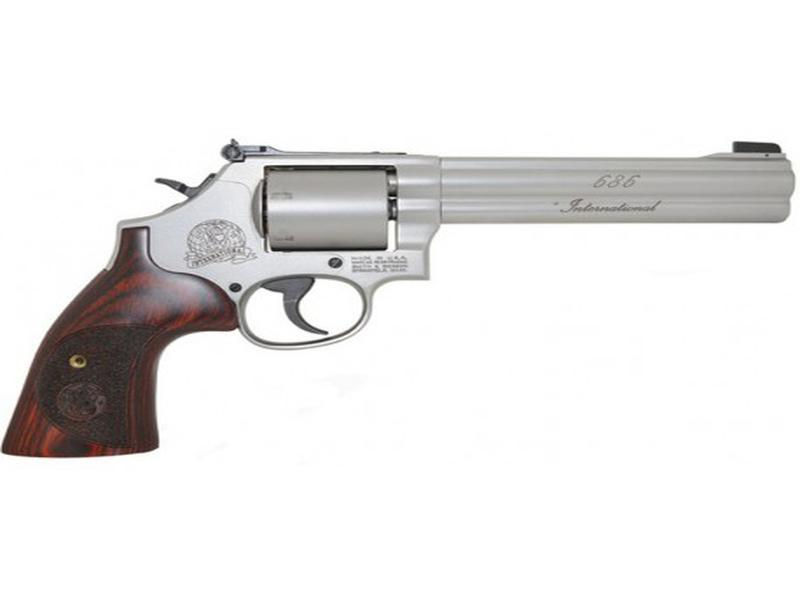Revolver: (38, 118, 794, 396)
